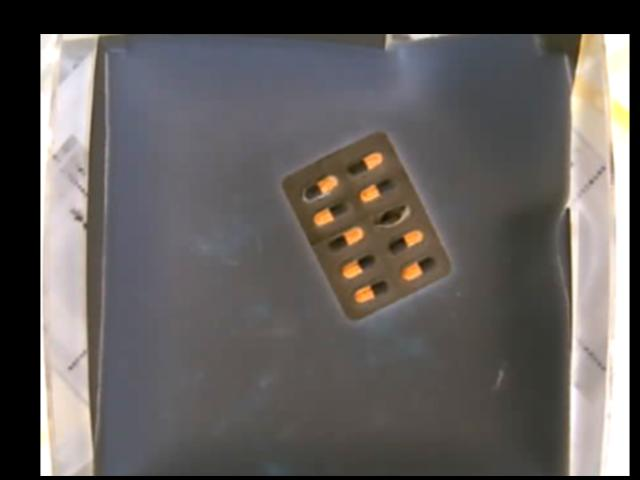Medicine: (278, 133, 451, 323)
